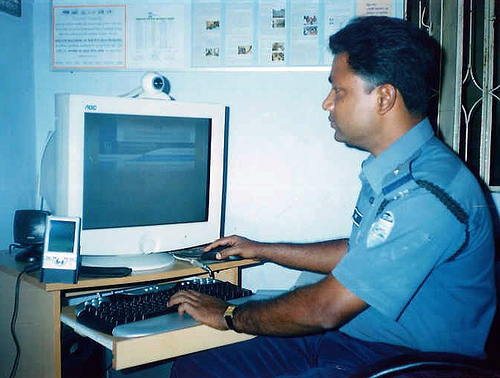without_mask: (319, 34, 424, 154)
